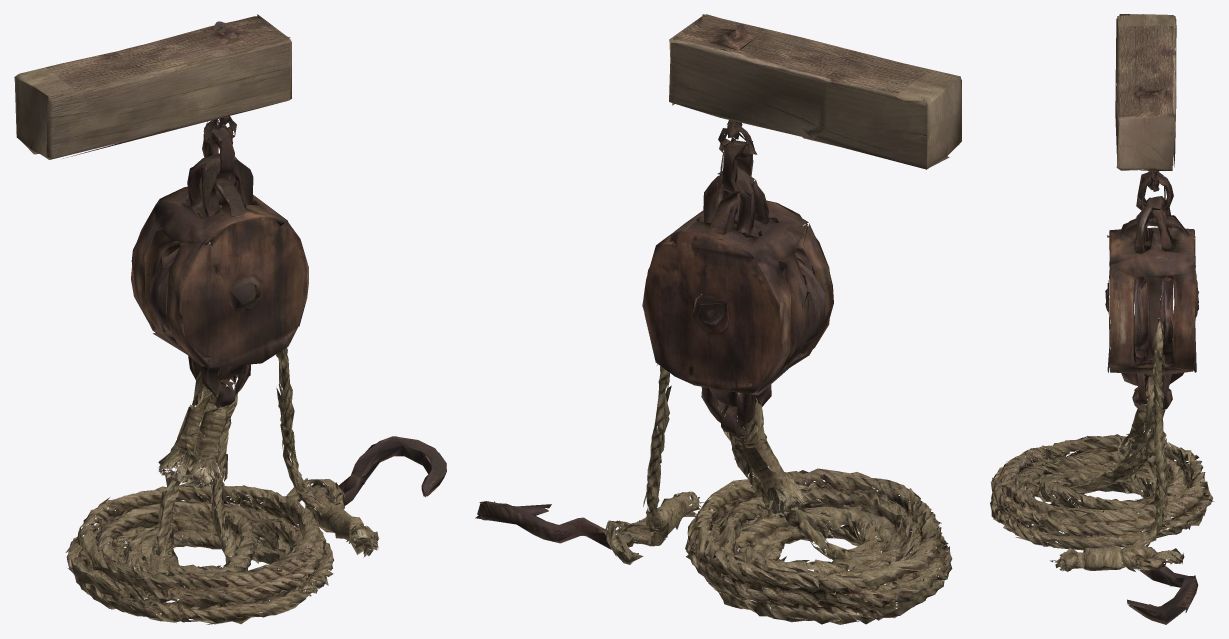
Rendered from warehouse-hoist-tackle.glb.
3 renders of one model, left to right at view 1: azimuth 30°, elevation 25°; view 2: azimuth 150°, elevation 25°; view 3: azimuth 270°, elevation 25°, orthographic. The views are drawn at different scales.
Visible parts, largest first — view 1: Mesh_0; view 2: Mesh_0; view 3: Mesh_0.
Boxes of the visible parts, x1,y1,x2,y2 form: Mesh_0: (14,14,446,624); Mesh_0: (475,14,961,624); Mesh_0: (990,14,1214,624).
Bounding box in the file's own units: 1.63 × 1.91 × 0.867.
1 material, 1 textured.
